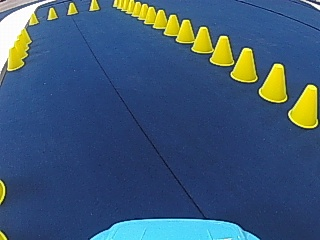cone: (288, 82, 318, 128), (258, 61, 289, 103), (231, 47, 259, 82), (209, 34, 233, 65), (190, 25, 213, 54), (175, 19, 195, 43), (162, 14, 180, 36), (8, 48, 23, 70), (152, 9, 167, 29), (148, 8, 163, 26), (14, 40, 28, 58), (144, 7, 156, 23), (19, 28, 31, 43), (66, 2, 78, 15), (46, 7, 58, 20), (138, 4, 148, 19), (17, 35, 29, 47), (131, 2, 141, 16), (28, 12, 38, 25), (89, 0, 99, 11)
